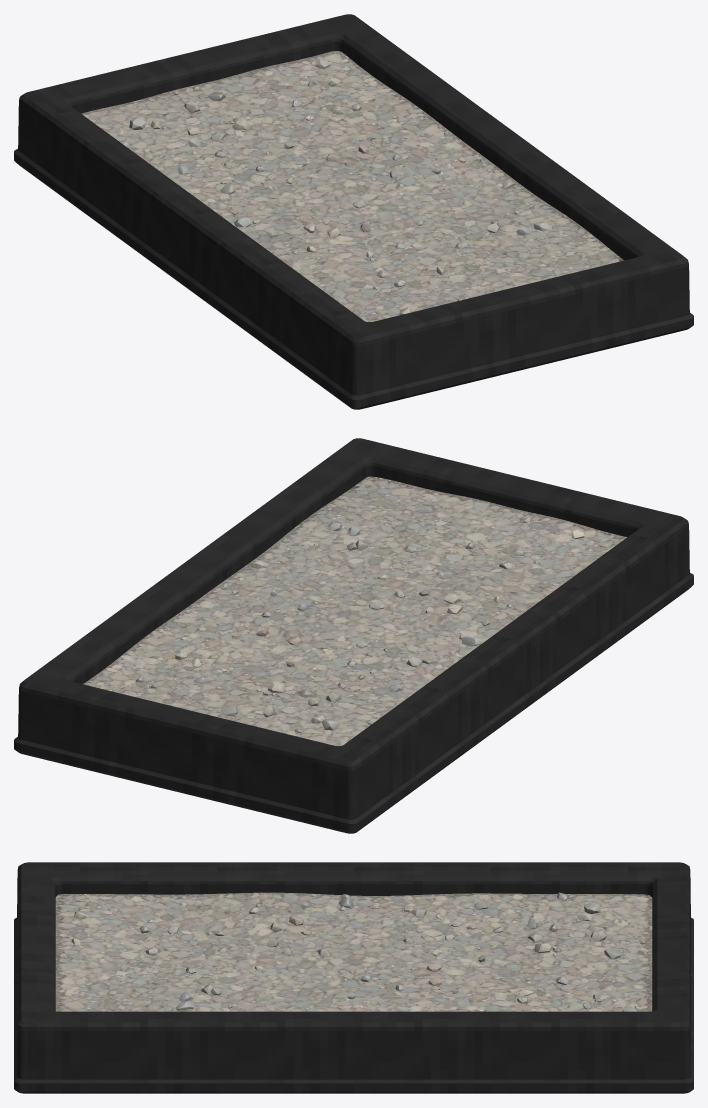
The model's file is flower-rect-marble-far.glb.
3 renders of one model, top to bottom at view 1: azimuth 30°, elevation 25°; view 2: azimuth 150°, elevation 25°; view 3: azimuth 270°, elevation 25°, orthographic.
Parts seen in each view (by area): view 1: SM_flower_rect_marble; view 2: SM_flower_rect_marble; view 3: SM_flower_rect_marble.
Part boxes in pixels (x1=…): SM_flower_rect_marble: x1=14, y1=14, x2=693, y2=409; SM_flower_rect_marble: x1=14, y1=438, x2=693, y2=833; SM_flower_rect_marble: x1=14, y1=862, x2=693, y2=1093.
Bounding box in the file's own units: 0.66 × 0.128 × 1.14.
4 materials, 4 textured.
